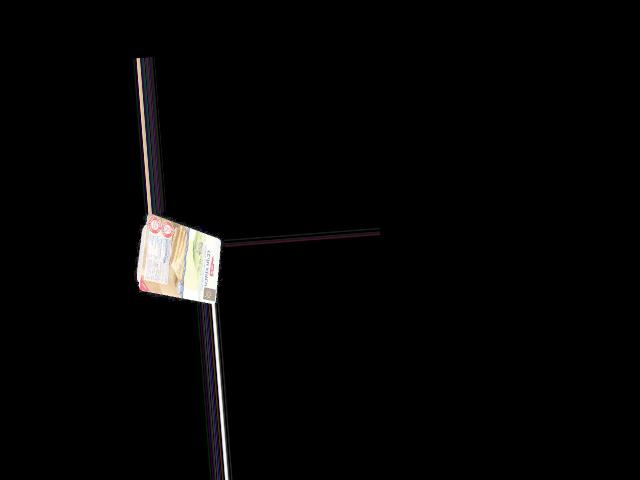cheese: (135, 223, 223, 301)
